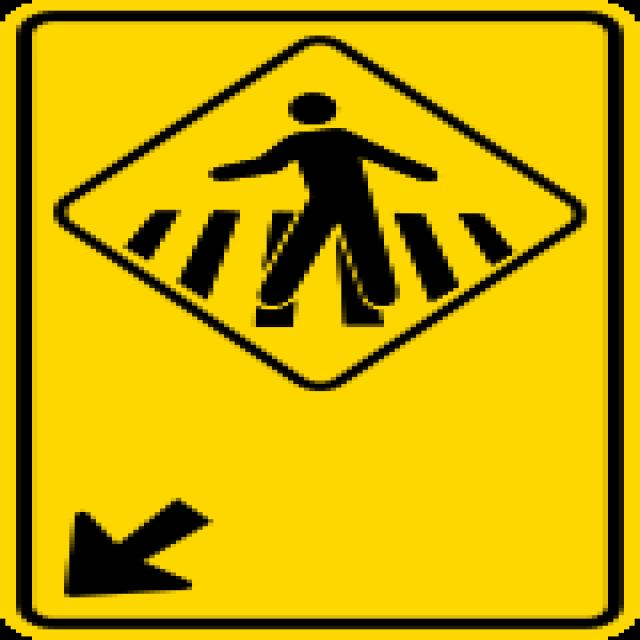Pedestrian crosswalk: (46, 28, 590, 398)
